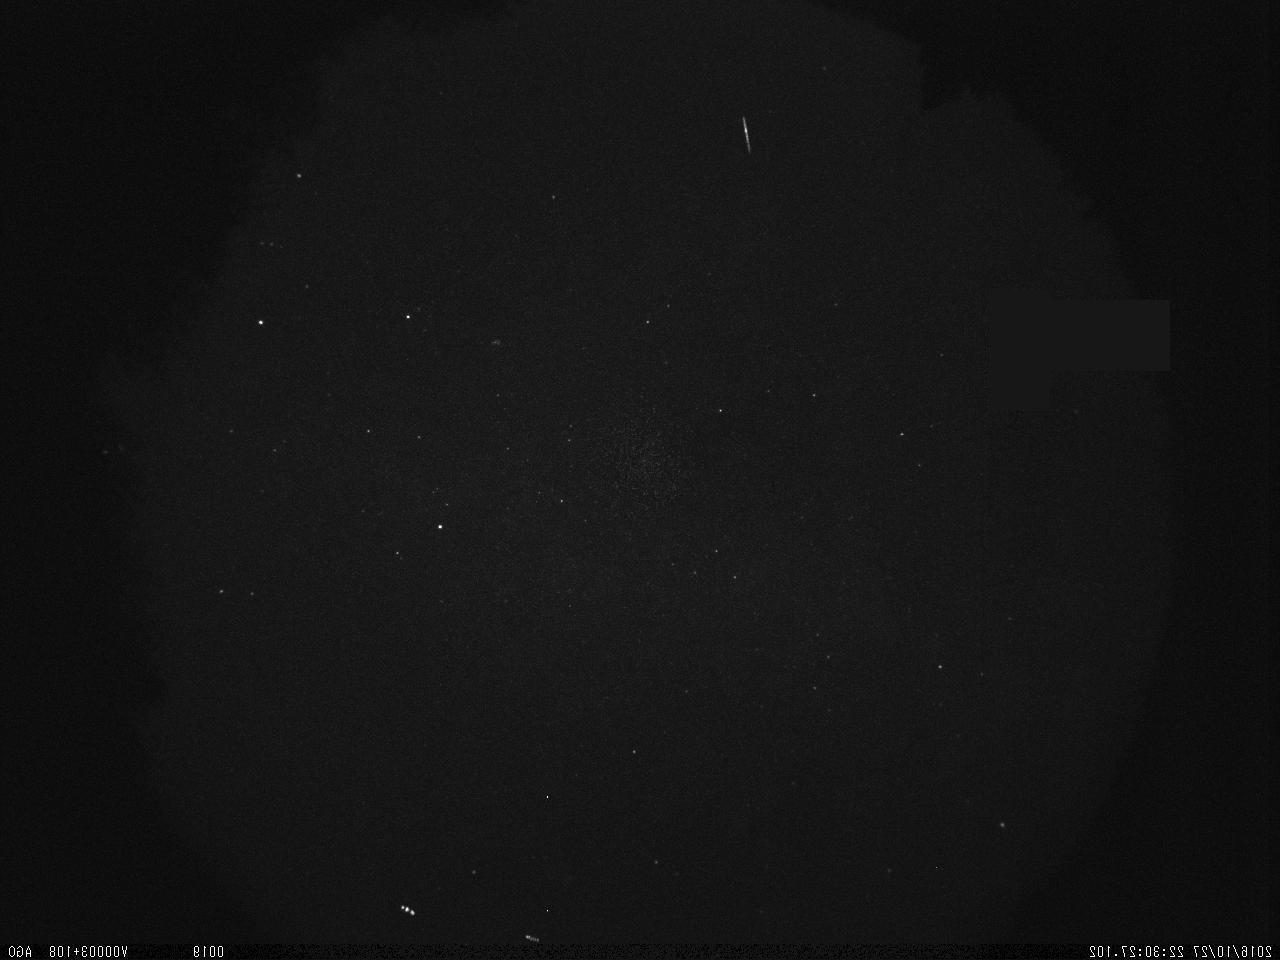meteor: (737, 108, 757, 166)
satelite: (396, 899, 422, 920), (518, 932, 546, 947)
